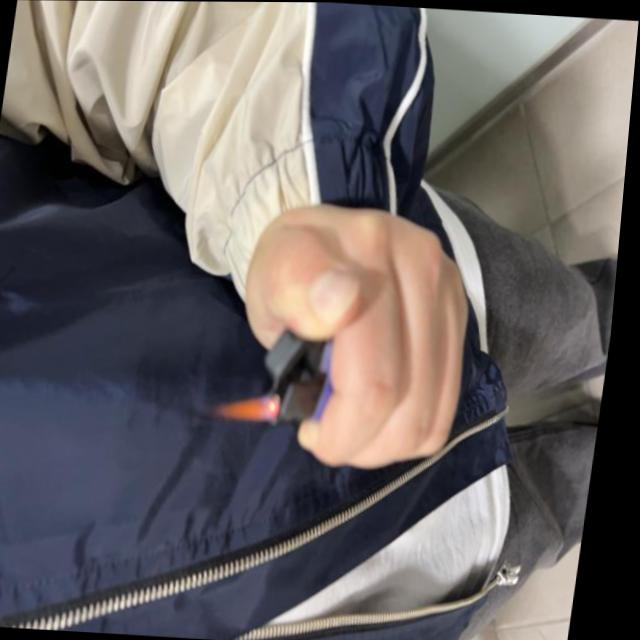Fire: (212, 389, 291, 425)
